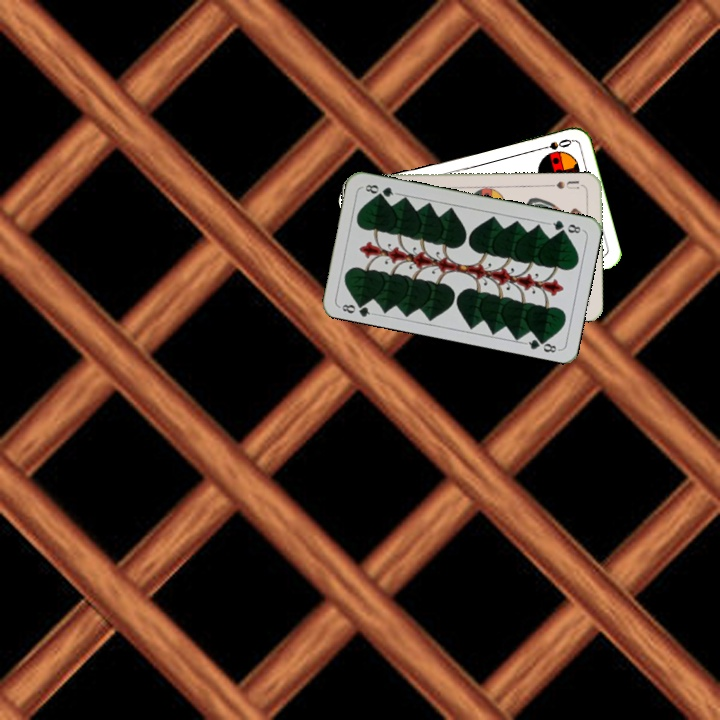G8: (336, 297, 376, 319), (545, 216, 585, 236)
SO: (535, 135, 575, 153)
SU: (546, 176, 586, 192)
